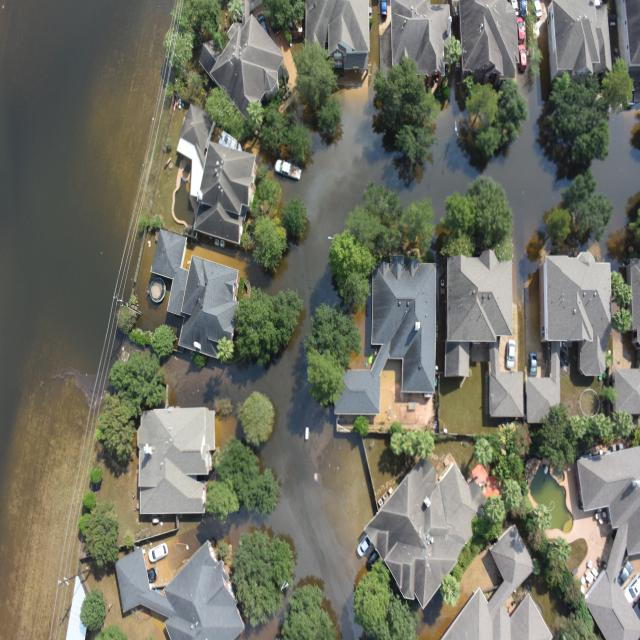fire: (0, 0, 172, 637), (198, 75, 478, 330), (485, 75, 570, 303), (227, 329, 330, 494), (303, 435, 373, 616), (279, 501, 303, 555)
